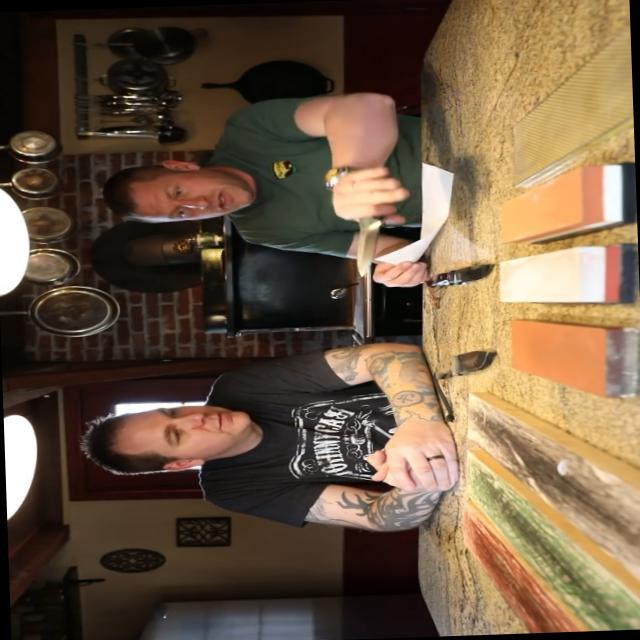knife: (318, 180, 410, 286)
